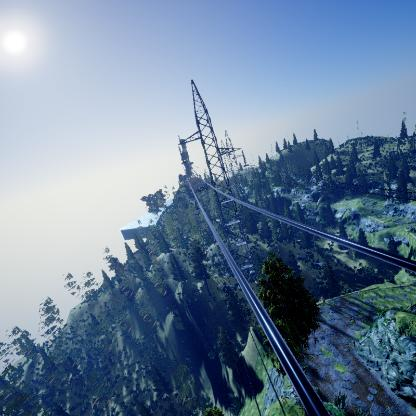tower: (177, 77, 269, 292)
